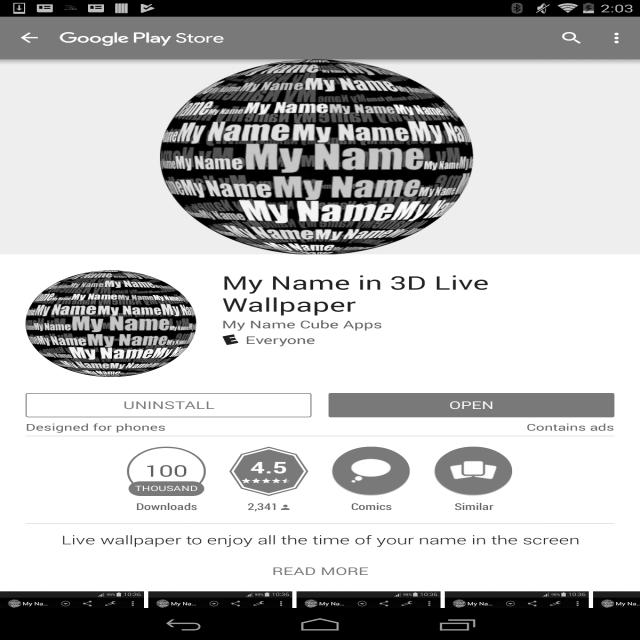Button: (26, 393, 312, 417), (328, 393, 614, 417), (222, 447, 316, 512), (324, 447, 418, 512), (426, 447, 520, 512)
ImageButton: (0, 17, 60, 59)
ImageView: (0, 59, 640, 254), (26, 270, 196, 377), (296, 591, 441, 640), (0, 591, 144, 640), (148, 591, 292, 640), (445, 591, 589, 640), (332, 447, 411, 496), (434, 447, 513, 496), (60, 30, 224, 46), (593, 591, 640, 640), (597, 22, 640, 54), (222, 334, 239, 345), (281, 505, 290, 510)
TextView: (0, 531, 640, 560), (222, 270, 614, 317), (0, 560, 640, 578), (222, 317, 382, 331), (25, 421, 166, 433), (546, 22, 597, 54), (324, 496, 418, 513), (426, 496, 520, 513), (120, 496, 213, 513), (526, 421, 614, 433), (245, 333, 316, 347), (144, 462, 188, 481), (250, 456, 288, 478), (133, 484, 200, 493), (247, 496, 278, 513)
